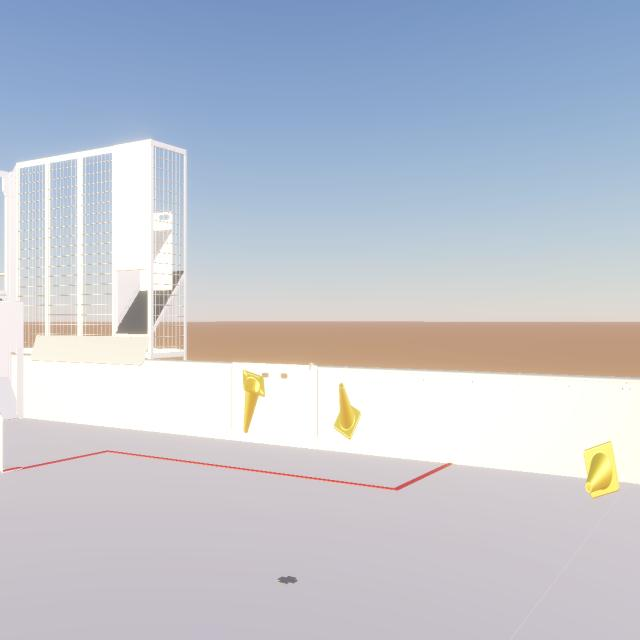frc_cone: (584, 441, 620, 498), (334, 382, 361, 440), (243, 370, 265, 433)
